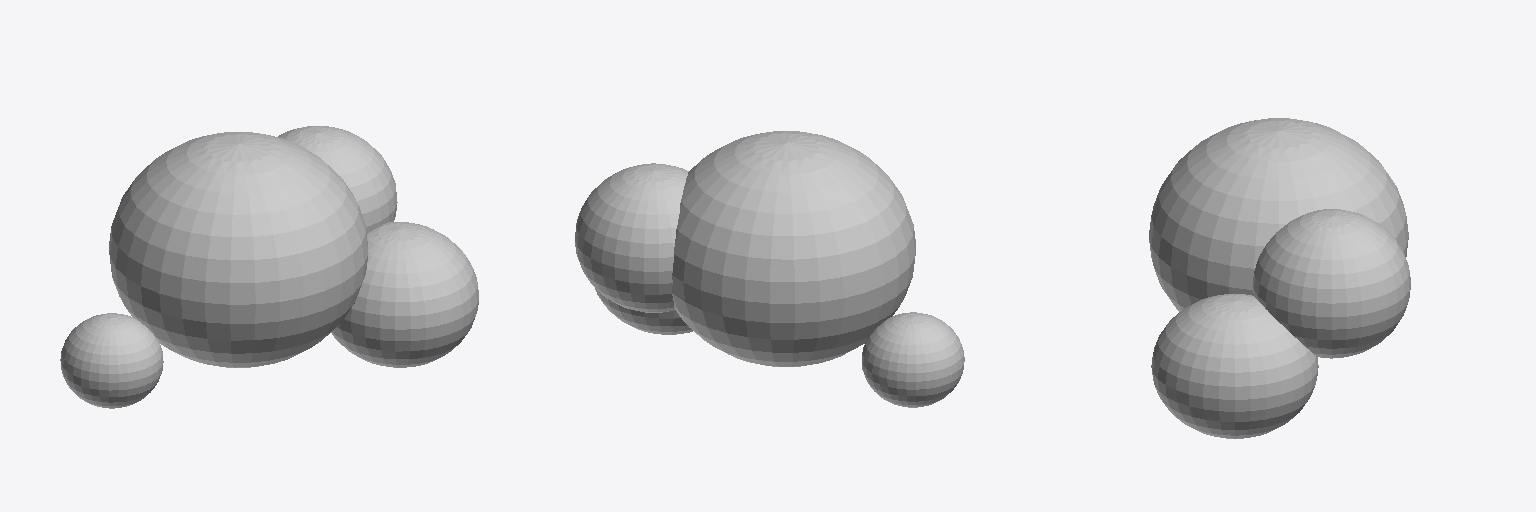
The model's file is msh_cloud_A_04.obj.
3 renders of one model, left to right at view 1: azimuth 30°, elevation 25°; view 2: azimuth 150°, elevation 25°; view 3: azimuth 270°, elevation 25°, orthographic.
Parts seen in each view (by area): view 1: Cloud_A; view 2: Cloud_A; view 3: Cloud_A.
Boxes of the visible parts, x1,y1,x2,y2 form: Cloud_A: [60, 126, 478, 408]; Cloud_A: [575, 131, 964, 407]; Cloud_A: [1149, 118, 1410, 438].
Size of the model in its own units: 1.85 by 1.09 by 1.11.